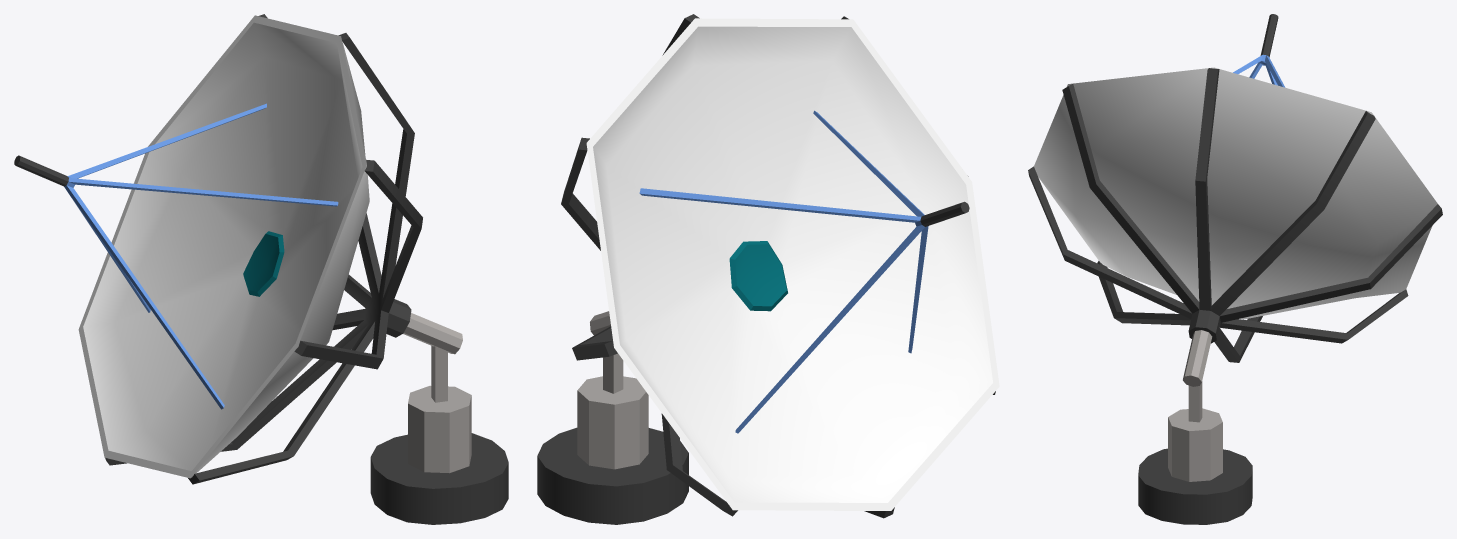
Rendered from Antenna.fbx.
The picture shows the model from 3 angles, left to right: view 1: azimuth 30°, elevation 25°; view 2: azimuth 150°, elevation 25°; view 3: azimuth 270°, elevation 25°; orthographic projection. The views are drawn at different scales.
Parts seen in each view (by area): view 1: Antenna; view 2: Antenna; view 3: Antenna.
Boxes of the visible parts, bbox=[...] form: Antenna: bbox=[14, 14, 508, 524]; Antenna: bbox=[537, 14, 999, 524]; Antenna: bbox=[1028, 14, 1442, 524].
Bounding box in the file's own units: 327 × 320 × 338.
